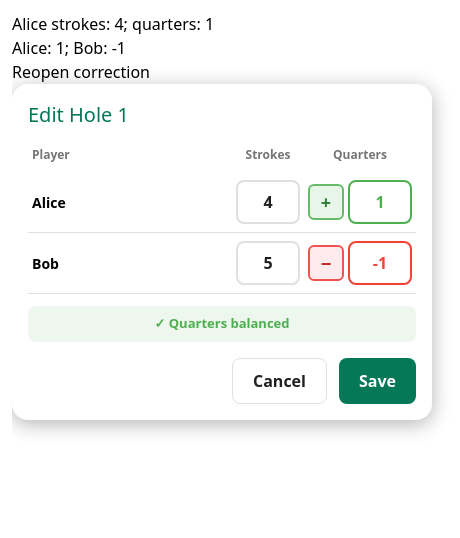
Scenario: correction save through the real handler and editor › hole editor queued outcomes › a superseded revision is unconfirmed, not marked saved by a different revision
Replace the text in the field named "Alice strokes" with "6" at coordinates (268, 202), box [236,180,300,224]
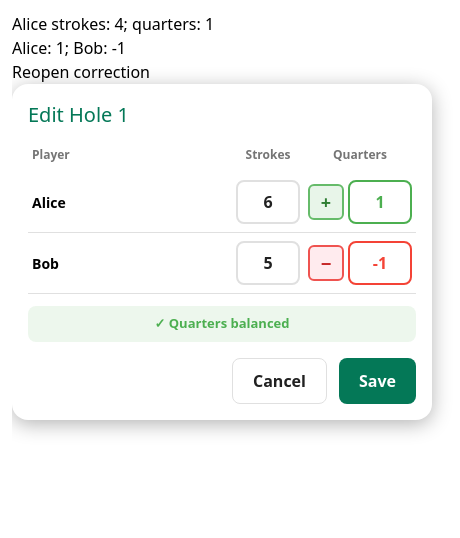
Replace the text in the field named "Alice quarters" with "2" at coordinates (380, 202), box [348,180,412,224]
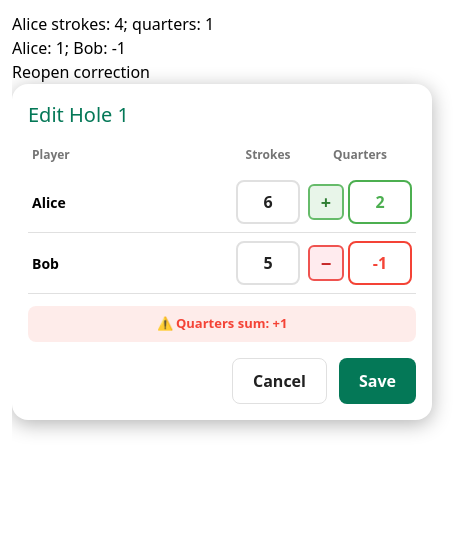
Replace the text in the field named "Bob quarters" with "-2" at coordinates (380, 263), box [348,241,412,285]
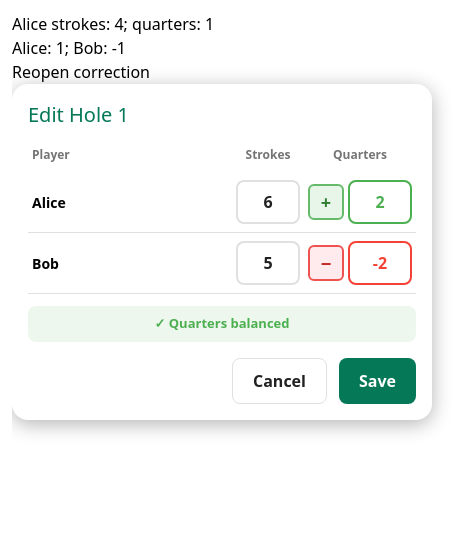
Click the button "Save" at coordinates (378, 380), box [339,358,416,404]
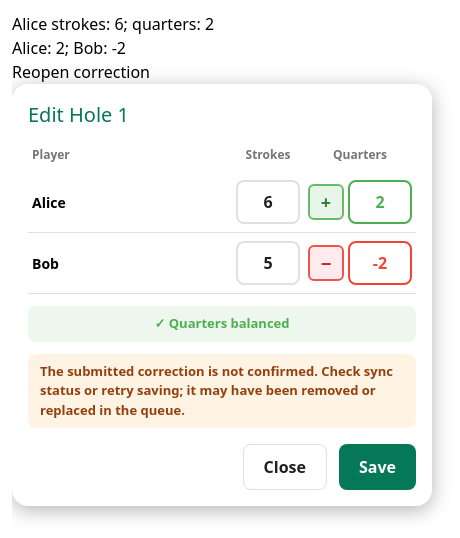
Expected: the message is shown, [28,354,416,428]
Expected: the message shows "not confirmed", [40,362,393,418]
